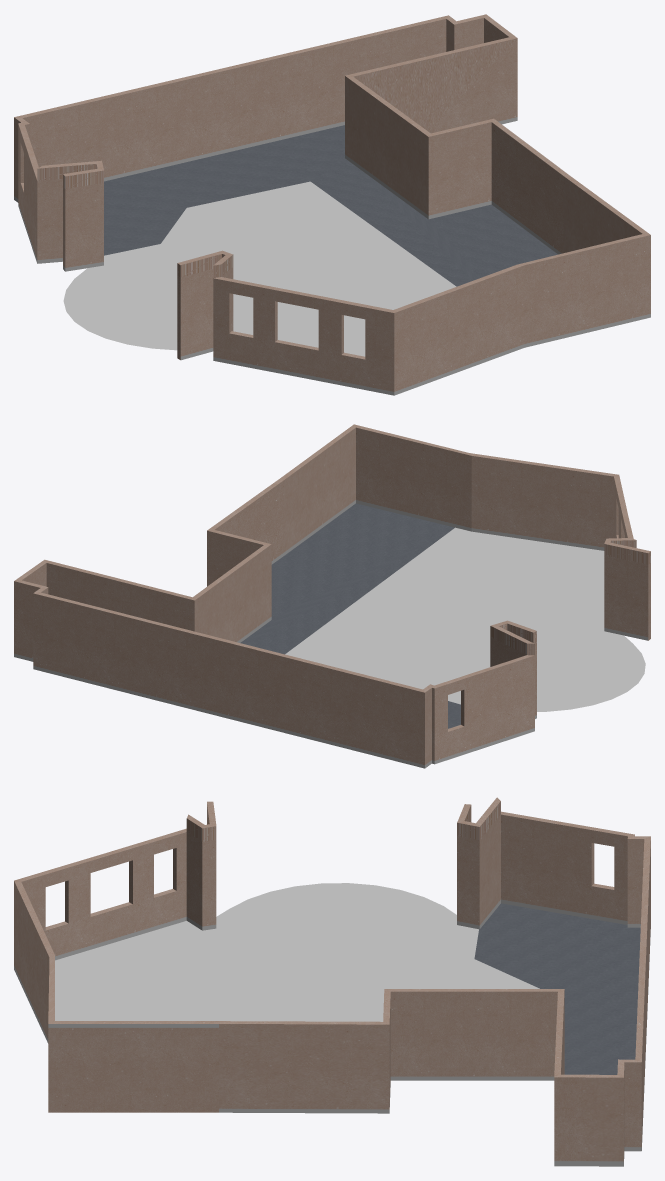
The model's file is Rooms.fbx.
The picture shows the model from 3 angles, top to bottom: view 1: azimuth 30°, elevation 25°; view 2: azimuth 150°, elevation 25°; view 3: azimuth 270°, elevation 25°; orthographic projection. The views are drawn at different scales.
Parts seen in each view (by area): view 1: Room.000, Floor.002; view 2: Room.000, Floor.002; view 3: Room.000, Floor.002.
Part boxes in pixels (x1,y1,x2,y2): Room.000: (14,14,650,395); Floor.002: (63,125,557,356); Room.000: (14,424,650,768); Floor.002: (240,503,645,728); Room.000: (14,797,650,1166); Floor.002: (55,883,640,1074).
Size of the model in its own units: 20.52 by 3.46 by 19.48.
